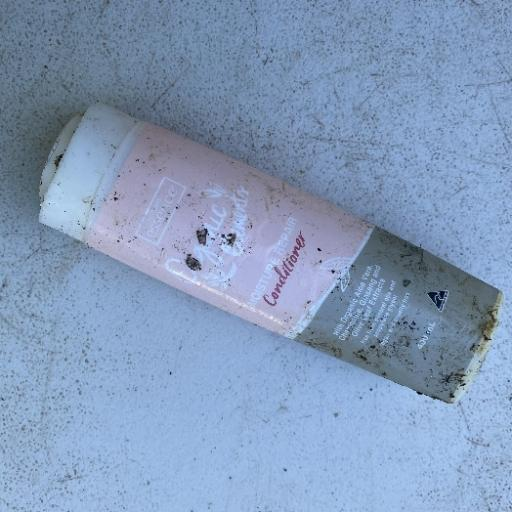Plastic: (35, 98, 503, 406)
